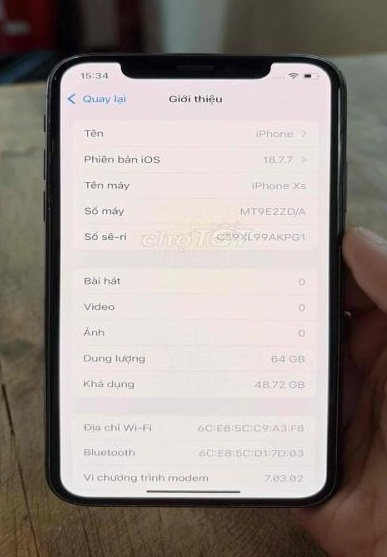scratch: (41, 68, 69, 89)
